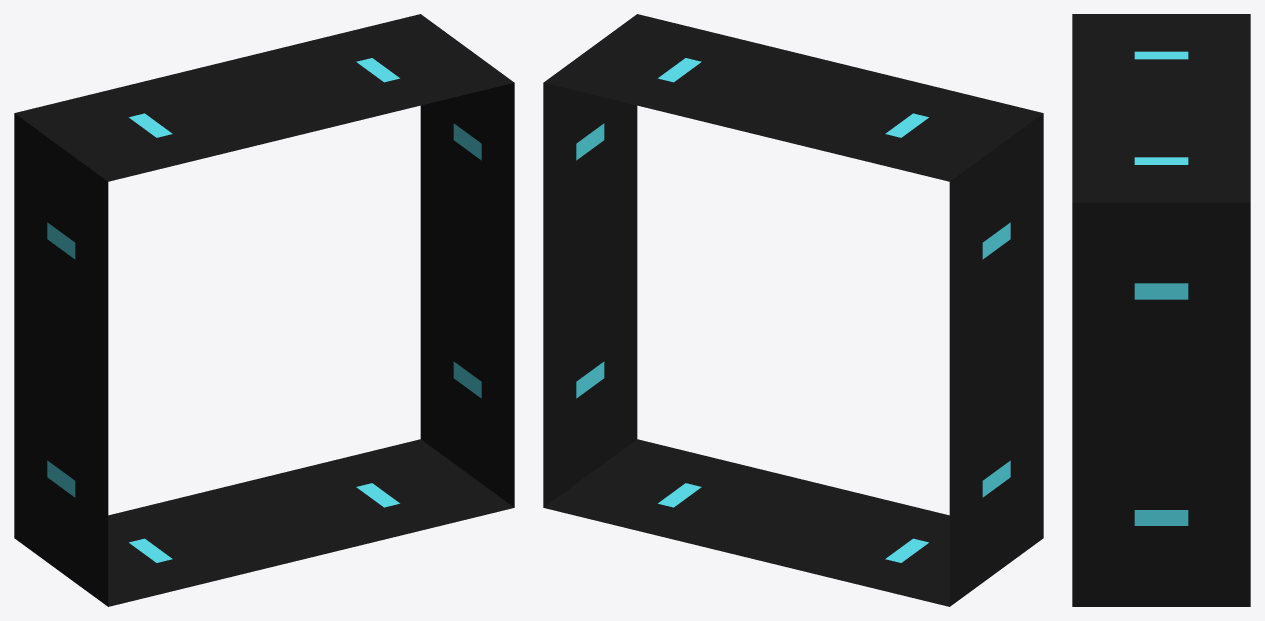
The model's file is hole.FBX.
3 renders of one model, left to right at view 1: azimuth 30°, elevation 25°; view 2: azimuth 150°, elevation 25°; view 3: azimuth 270°, elevation 25°, orthographic. The views are drawn at different scales.
Parts seen in each view (by area): view 1: hole; view 2: hole; view 3: hole.
Boxes of the visible parts, left/top/right/bottom form: hole: left=14, top=14, right=514, bottom=606; hole: left=543, top=14, right=1043, bottom=606; hole: left=1072, top=14, right=1250, bottom=606.
Size of the model in its own units: 25 by 25 by 10.
